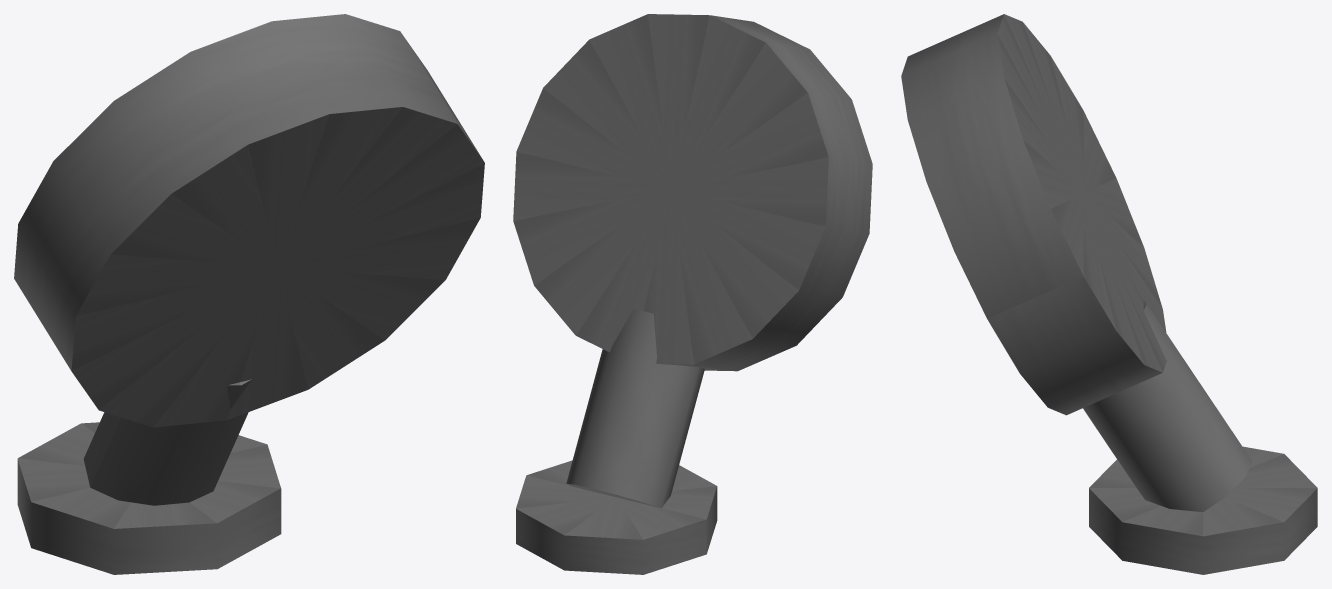
File: mastarmcurve_8x2_c0_ped_down.obj
3 renders of one model, left to right at view 1: azimuth 30°, elevation 25°; view 2: azimuth 150°, elevation 25°; view 3: azimuth 270°, elevation 25°, orthographic. The views are drawn at different scales.
Visible parts, largest first — view 1: mastarm_8x2_c0_ped_down; view 2: mastarm_8x2_c0_ped_down; view 3: mastarm_8x2_c0_ped_down.
Boxes of the visible parts, x1,y1,x2,y2 form: mastarm_8x2_c0_ped_down: [14, 14, 484, 574]; mastarm_8x2_c0_ped_down: [513, 14, 872, 574]; mastarm_8x2_c0_ped_down: [901, 14, 1317, 574].
Size of the model in its own units: 0.6856 by 0.9505 by 0.7279.
